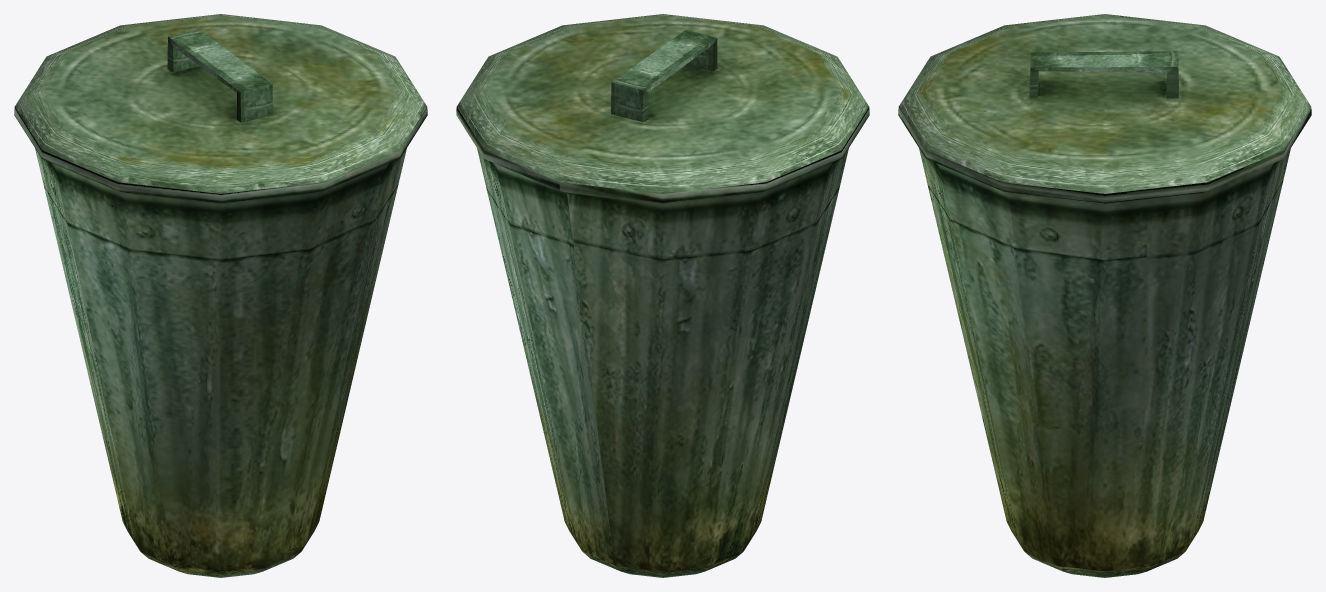
File: trash can.FBX
The picture shows the model from 3 angles, left to right: view 1: azimuth 30°, elevation 25°; view 2: azimuth 150°, elevation 25°; view 3: azimuth 270°, elevation 25°; orthographic projection.
Parts seen in each view (by area): view 1: Cylinder001; view 2: Cylinder001; view 3: Cylinder001.
Part boxes in pixels (x1,y1,x2,y2): Cylinder001: [14, 14, 427, 577]; Cylinder001: [456, 14, 869, 577]; Cylinder001: [898, 14, 1311, 577].
Size of the model in its own units: 8.88 by 11.62 by 8.88.
